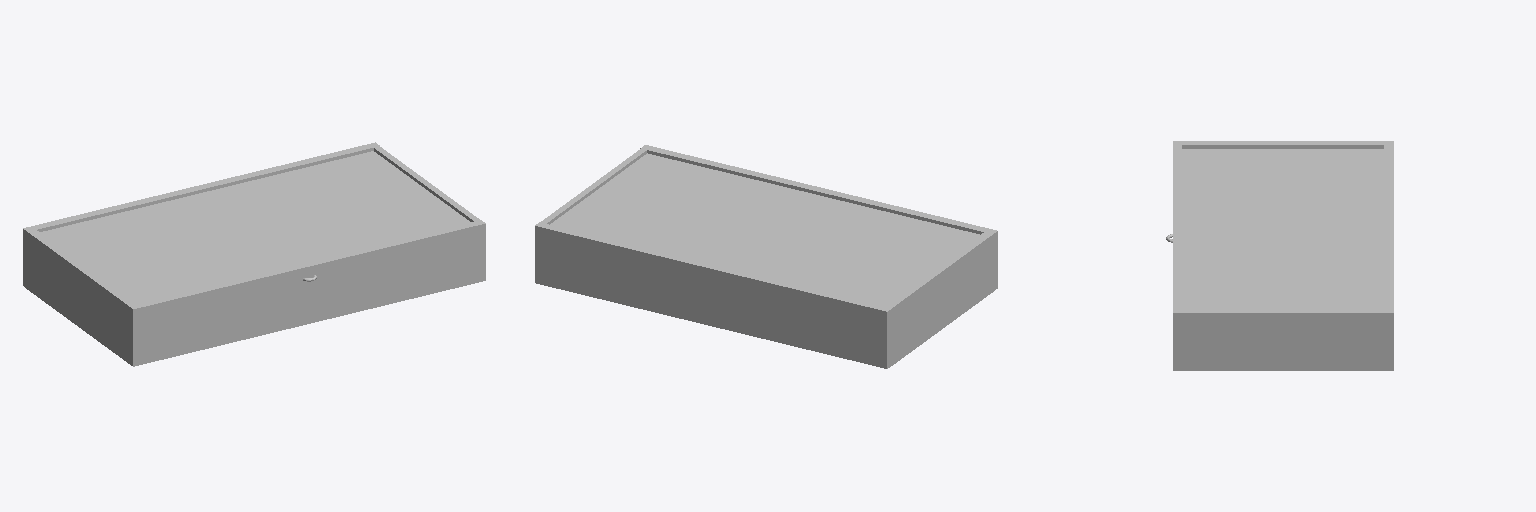
Rendered from MilitaryCrate.obj.
3 renders of one model, left to right at view 1: azimuth 30°, elevation 25°; view 2: azimuth 150°, elevation 25°; view 3: azimuth 270°, elevation 25°, orthographic.
Parts seen in each view (by area): view 1: Cube.005_Cube.006, Cube.004_Cube.005, Cube.001_Cube.002, Cube.003_Cube.004, Cube.002_Cube.003; view 2: Cube.005_Cube.006, Cube.003_Cube.004, Cube.001_Cube.002, Cube.004_Cube.005, Cube.002_Cube.003; view 3: Cube.005_Cube.006, Cube.002_Cube.003, Cube.003_Cube.004, Cube.004_Cube.005, Cube.001_Cube.002.
Boxes of the visible parts, x1=… form: Cube.005_Cube.006: x1=40, y1=151, x2=469, y2=303; Cube.004_Cube.005: x1=128, y1=220, x2=485, y2=366; Cube.001_Cube.002: x1=27, y1=230, x2=136, y2=365; Cube.003_Cube.004: x1=23, y1=142, x2=379, y2=288; Cube.002_Cube.003: x1=374, y1=146, x2=479, y2=221; Cube.005_Cube.006: x1=550, y1=153, x2=979, y2=305; Cube.003_Cube.004: x1=535, y1=222, x2=891, y2=368; Cube.001_Cube.002: x1=884, y1=232, x2=992, y2=365; Cube.004_Cube.005: x1=640, y1=145, x2=997, y2=291; Cube.002_Cube.003: x1=541, y1=149, x2=646, y2=224; Cube.005_Cube.006: x1=1182, y1=149, x2=1383, y2=309; Cube.002_Cube.003: x1=1182, y1=310, x2=1383, y2=370; Cube.003_Cube.004: x1=1384, y1=141, x2=1393, y2=370; Cube.004_Cube.005: x1=1173, y1=141, x2=1181, y2=370; Cube.001_Cube.002: x1=1182, y1=141, x2=1383, y2=148.
Bounding box in the file's own units: 3.89 × 0.6095 × 2.18.